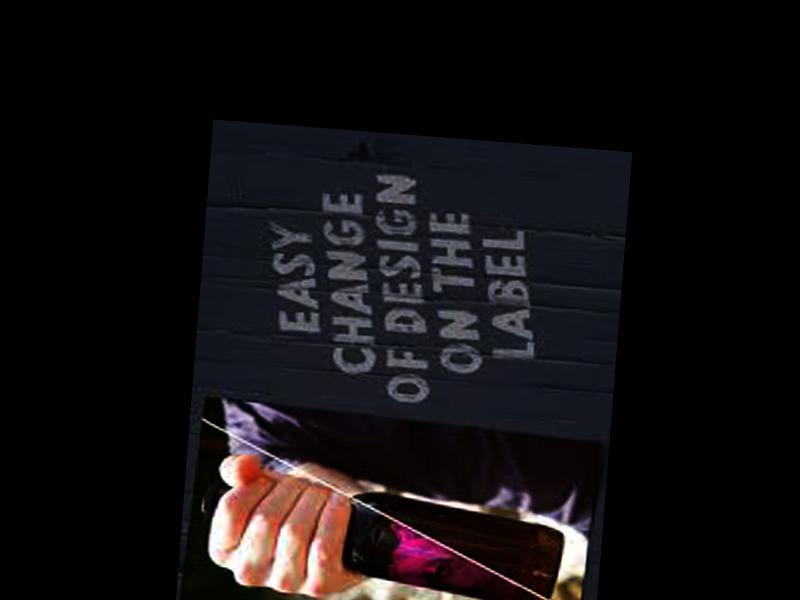Beer: (198, 478, 565, 600)
